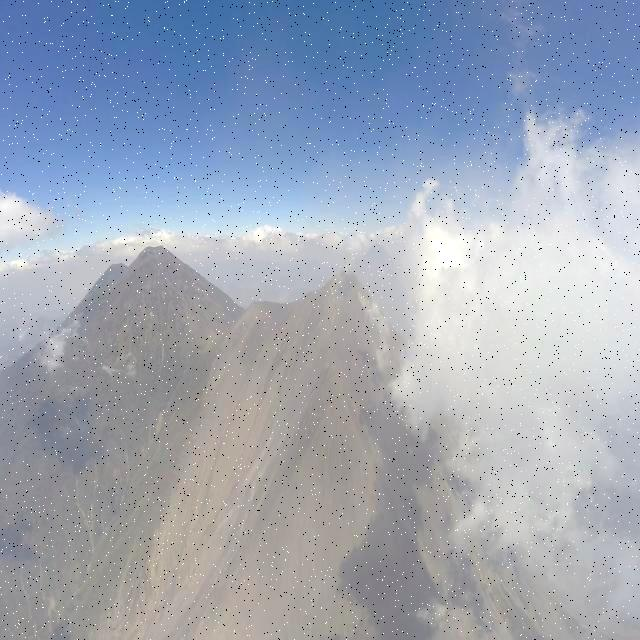Summit: (297, 269, 394, 329)
